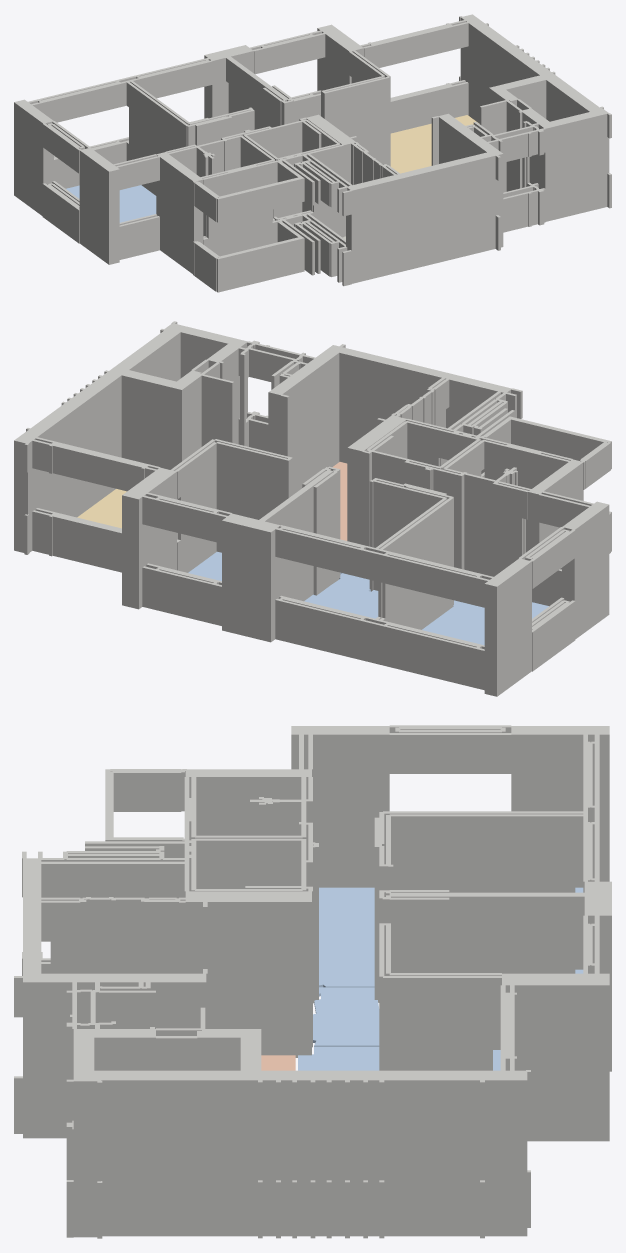
3 renders of one model, top to bottom at view 1: azimuth 30°, elevation 25°; view 2: azimuth 150°, elevation 25°; view 3: azimuth 270°, elevation 25°, orthographic. The views are drawn at different scales.
Visible parts, largest first — view 1: walls, room:living:5, room:bedroom:2; view 2: walls, room:bedroom:0, room:bedroom:2, room:living:5, room:kitchen:7, room:bedroom:1; view 3: walls, room:bedroom:2, room:bedroom:0, room:bedroom:1.
Boxes of the visible parts, x1,y1,x2,y2 form: walls: [14, 14, 611, 292]; room:living:5: [390, 115, 479, 173]; room:bedroom:2: [66, 185, 156, 222]; walls: [14, 321, 611, 696]; room:bedroom:0: [304, 573, 378, 618]; room:bedroom:2: [422, 600, 548, 645]; room:living:5: [77, 489, 126, 528]; room:kitchen:7: [332, 462, 347, 540]; room:bedroom:1: [188, 551, 341, 581]; walls: [14, 725, 611, 1238]; room:bedroom:2: [319, 887, 583, 987]; room:bedroom:0: [313, 969, 583, 1046]; room:bedroom:1: [298, 1046, 500, 1070].
Bounding box in the file's own units: 13.76 × 2.8 × 9.73.
